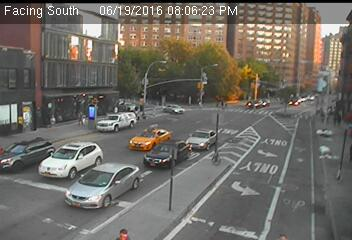neg: (136, 93, 149, 110), (194, 90, 206, 106), (122, 98, 131, 110)
pos: (74, 107, 87, 125), (334, 110, 346, 127), (323, 102, 334, 117), (119, 226, 127, 237)
